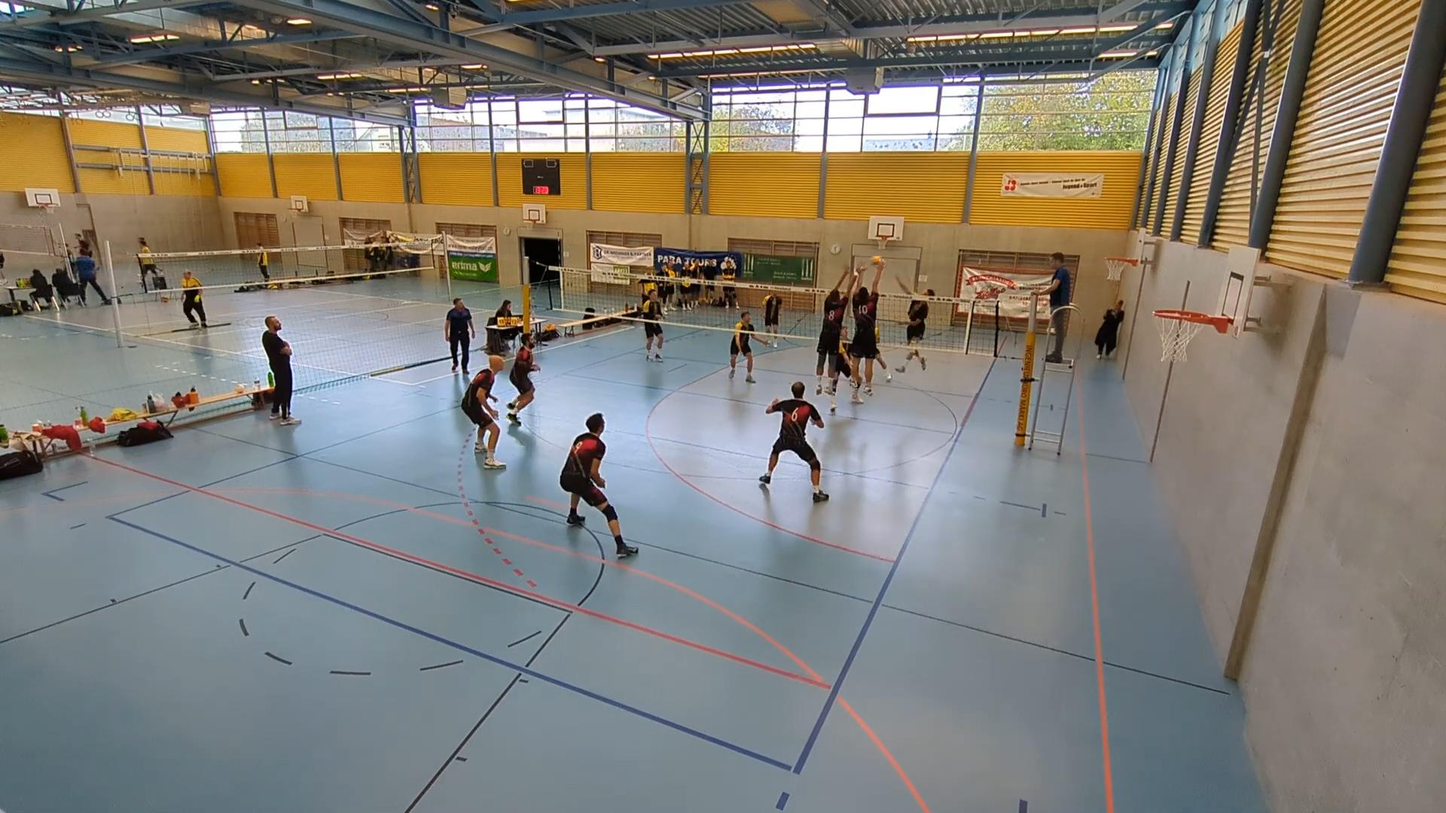Attack: (890, 267, 933, 387)
Block: (854, 261, 895, 402), (821, 264, 855, 399)
Player: (560, 413, 637, 557), (759, 382, 828, 502), (459, 355, 505, 468), (506, 333, 540, 423), (828, 329, 853, 411), (730, 311, 755, 382), (641, 289, 663, 360), (762, 292, 782, 340)
ball: (869, 257, 888, 267)
